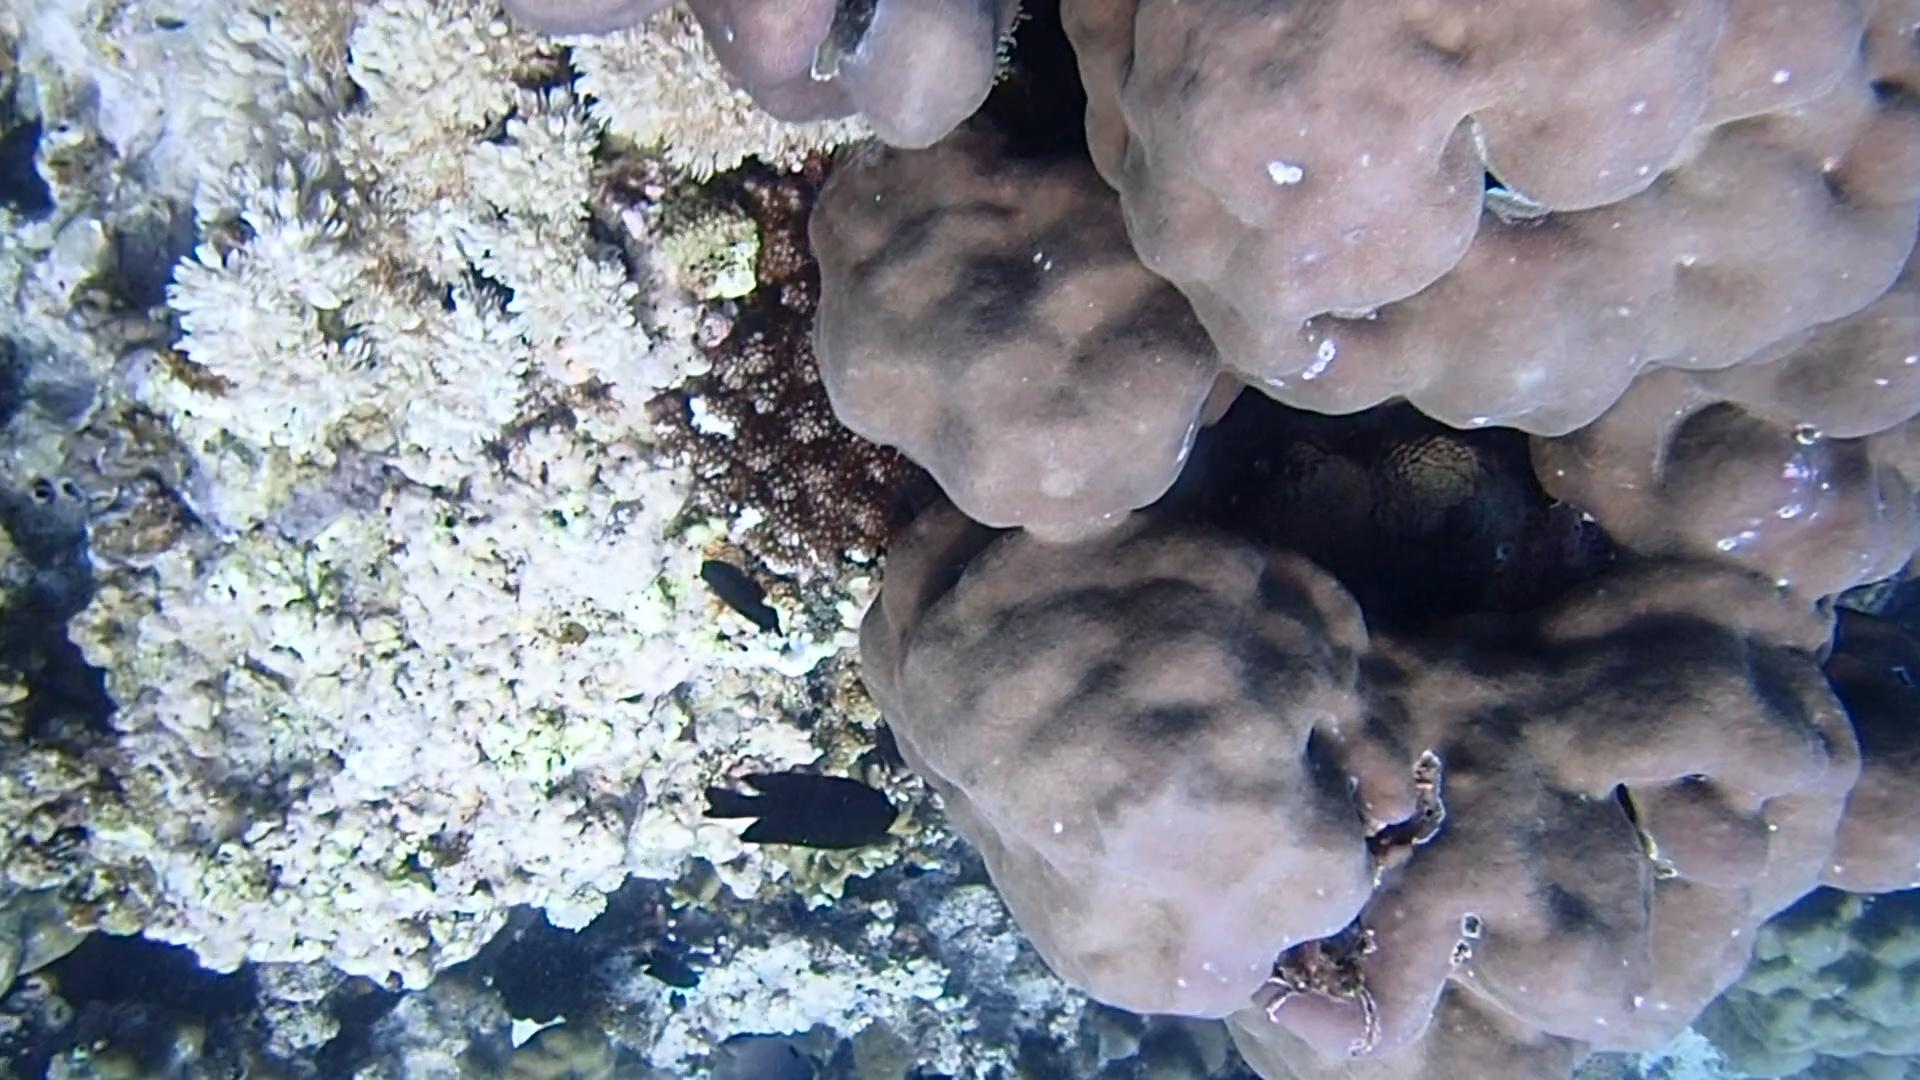Dark Fish: (694, 765, 911, 860), (692, 555, 786, 640), (626, 940, 704, 1002)
